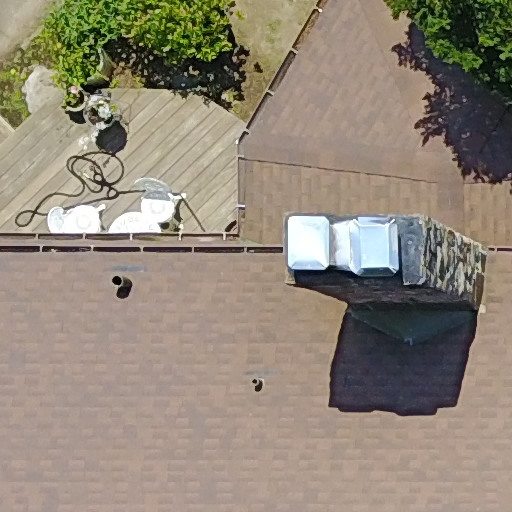flower pot: (55, 41, 129, 87), (86, 100, 115, 128), (62, 86, 86, 117)
